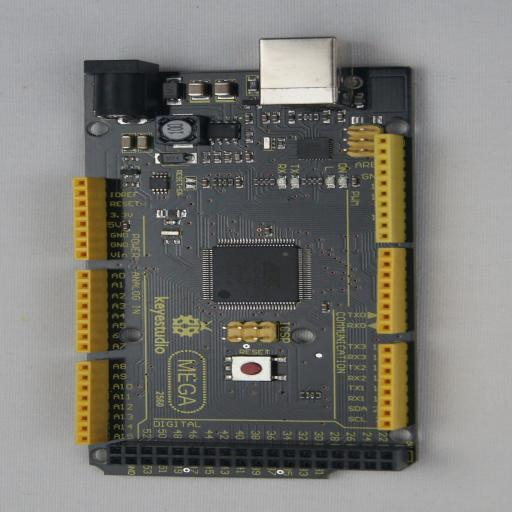Arduino Mega 2560 -Black and Yellow-: (79, 36, 424, 478)
